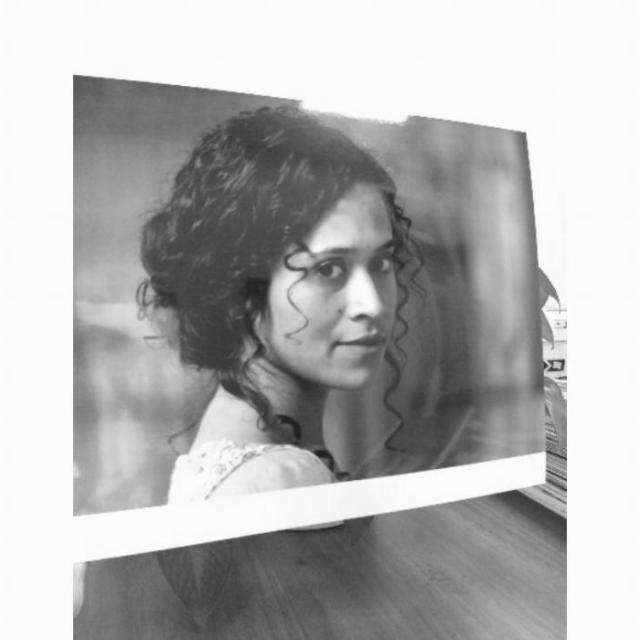fake: (74, 71, 542, 575)
